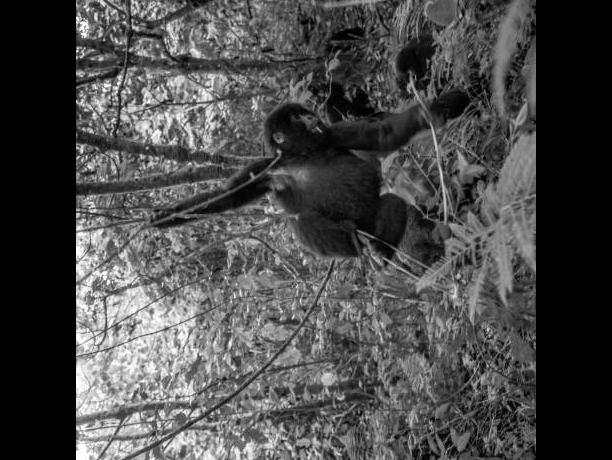goriile_montagne: (159, 74, 444, 270)
